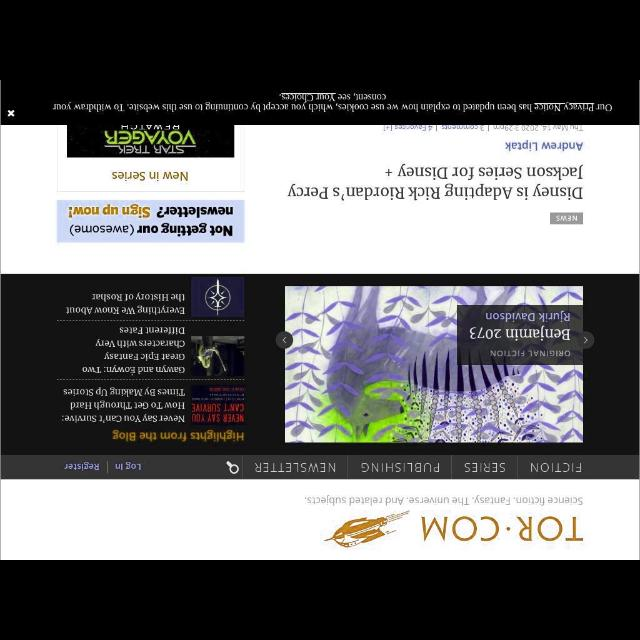icon: (224, 461, 240, 473)
image: (284, 286, 584, 442), (322, 509, 584, 548), (56, 200, 245, 242), (68, 123, 234, 157), (192, 276, 244, 316), (190, 336, 244, 374)
multitab: (63, 461, 582, 473)
text: (52, 91, 612, 112), (288, 162, 582, 200), (81, 326, 185, 374), (62, 387, 185, 423), (304, 494, 584, 506), (65, 292, 185, 314), (112, 429, 245, 441), (382, 126, 584, 132), (254, 461, 336, 473), (360, 462, 440, 474), (504, 139, 584, 151), (112, 171, 188, 181), (530, 461, 582, 473), (464, 461, 506, 474), (64, 462, 100, 472), (114, 461, 142, 473), (556, 214, 578, 222), (7, 110, 16, 118)
